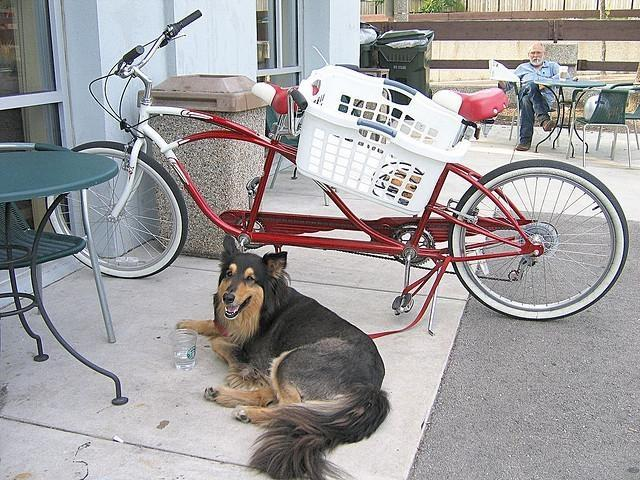bicycle: (44, 7, 632, 344)
